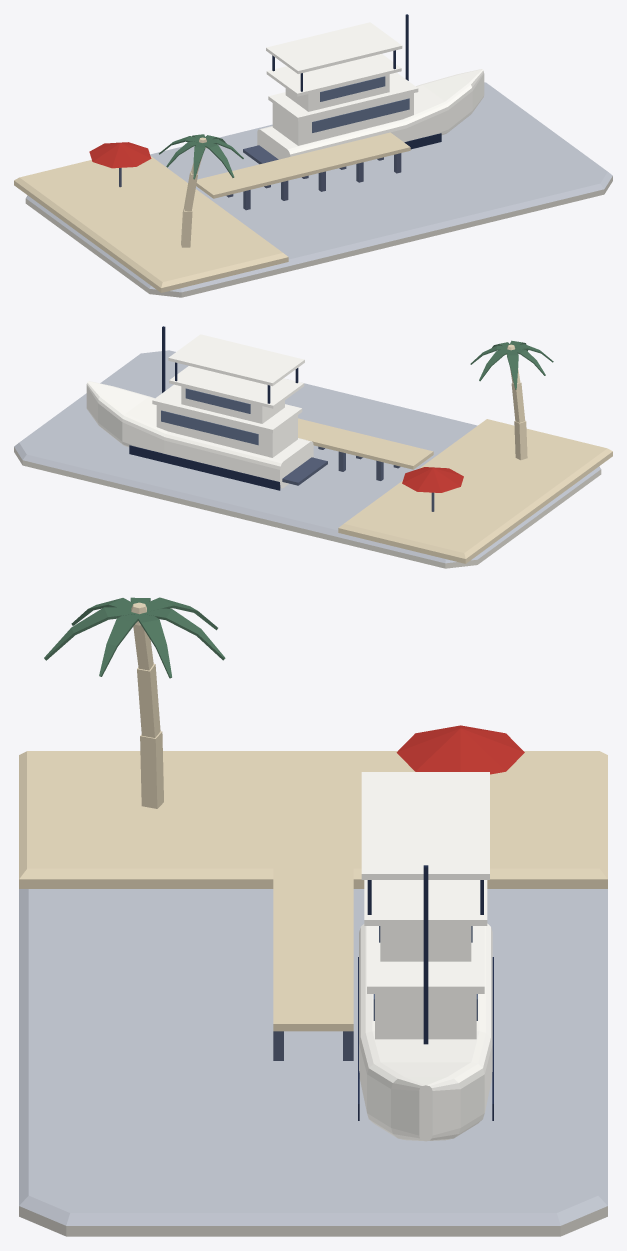
Rendered from hurghada.glb.
3 views of the same model, one above another, from view 1: azimuth 30°, elevation 25°; view 2: azimuth 150°, elevation 25°; view 3: azimuth 270°, elevation 25° (orthographic). The views are drawn at different scales.
Parts seen in each view (by area): view 1: model; view 2: model; view 3: model.
Boxes of the visible parts, box(x1,y1,x2,y2) form: model: box(14, 14, 612, 297); model: box(14, 326, 612, 568); model: box(19, 597, 607, 1236).
Size of the model in its own units: 40 by 10.6 by 22.
